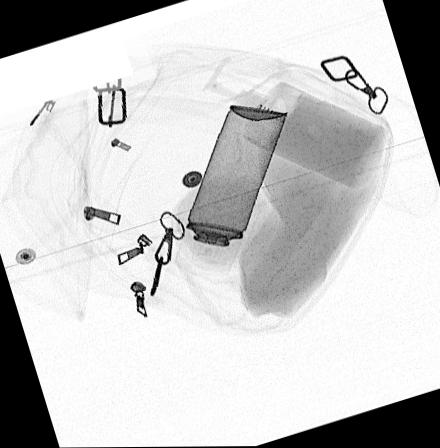Sprayer: (171, 101, 287, 279)
